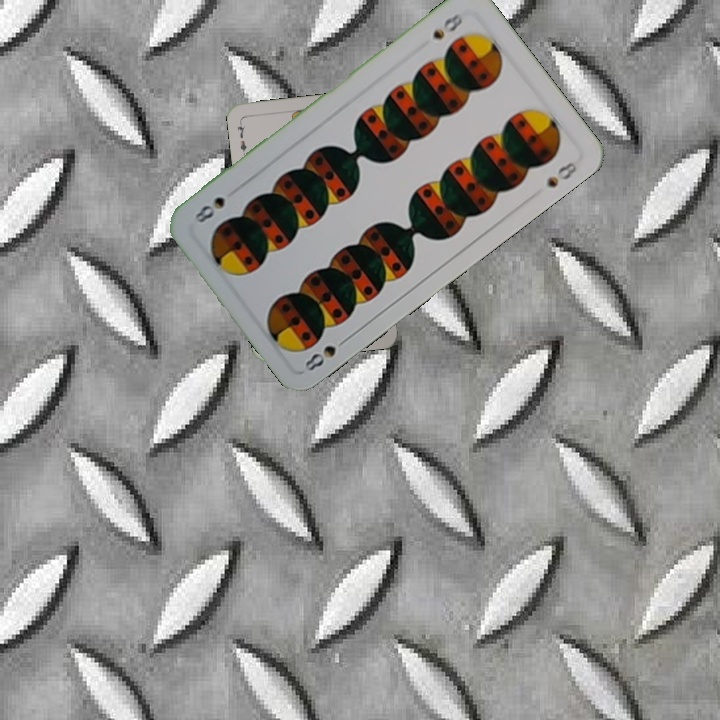E7: (233, 118, 249, 158)
S8: (300, 332, 352, 374), (428, 8, 466, 42)
